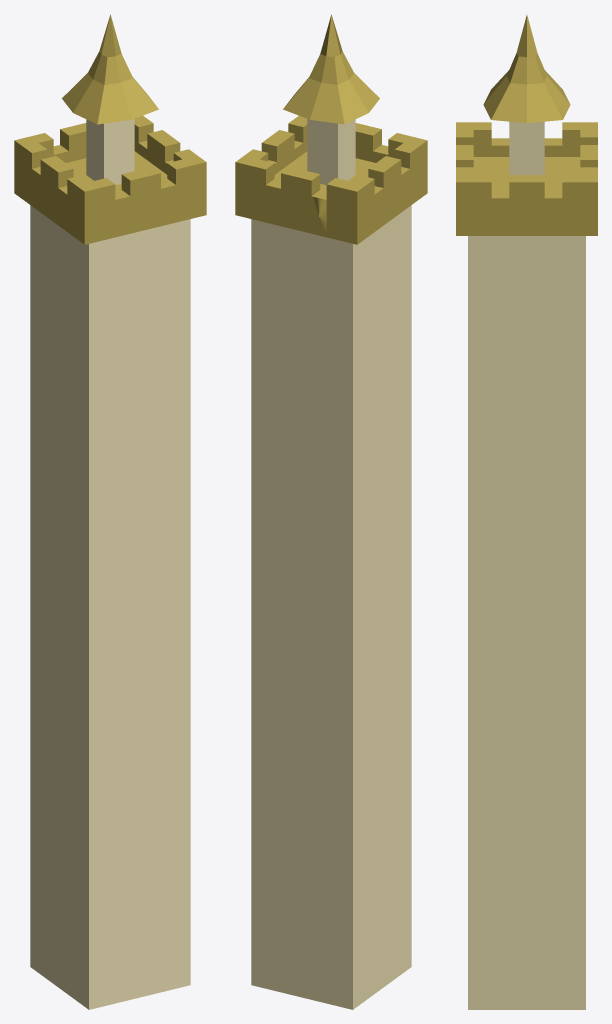
Rendered from tower.obj.
3 renders of one model, left to right at view 1: azimuth 30°, elevation 25°; view 2: azimuth 150°, elevation 25°; view 3: azimuth 270°, elevation 25°, orthographic.
Parts seen in each view (by area): view 1: Cube.001; view 2: Cube.001; view 3: Cube.001.
Boxes of the visible parts, bbox=[...] form: Cube.001: bbox=[14, 14, 206, 1009]; Cube.001: bbox=[235, 14, 427, 1009]; Cube.001: bbox=[456, 15, 597, 1009].
Size of the model in its own units: 2.4 by 18.12 by 2.4.
Materials: 1 (1 with a texture image).
